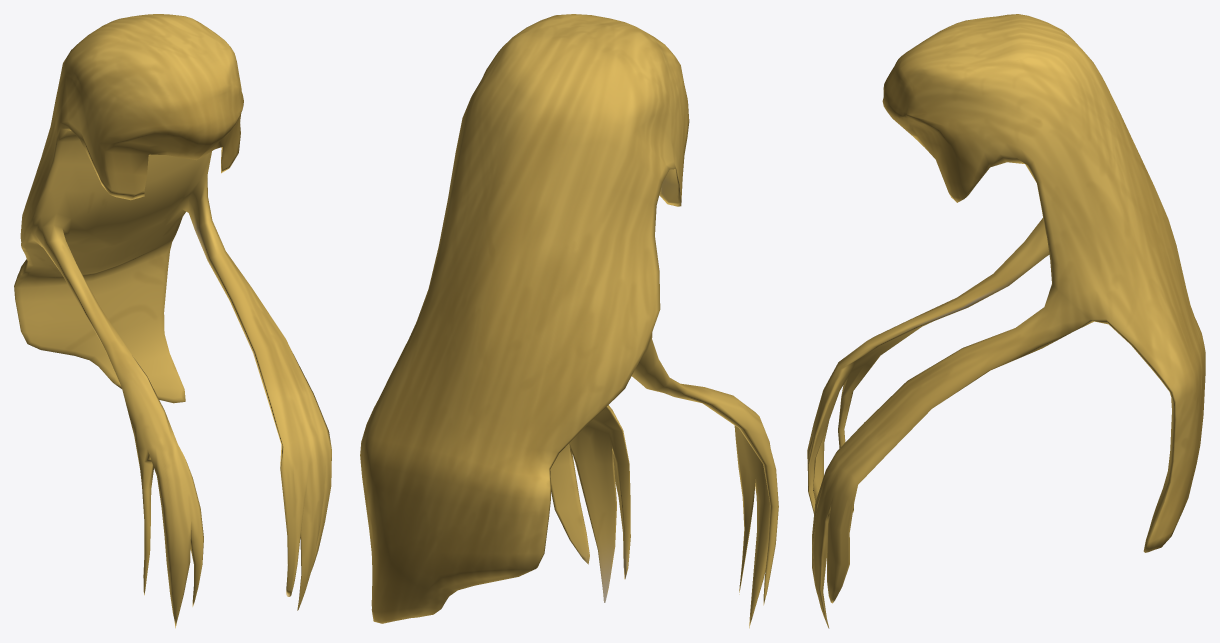
Rendered from hair 5.fbx.
The picture shows the model from 3 angles, left to right: view 1: azimuth 30°, elevation 25°; view 2: azimuth 150°, elevation 25°; view 3: azimuth 270°, elevation 25°; orthographic projection. The views are drawn at different scales.
Parts seen in each view (by area): view 1: hair_5; view 2: hair_5; view 3: hair_5.
Part boxes in pixels (left/top/right/bottom): hair_5: left=14, top=14, right=331, bottom=628; hair_5: left=360, top=14, right=778, bottom=628; hair_5: left=807, top=14, right=1205, bottom=628.
Bounding box in the file's own units: 1.43 × 3.72 × 2.36.
